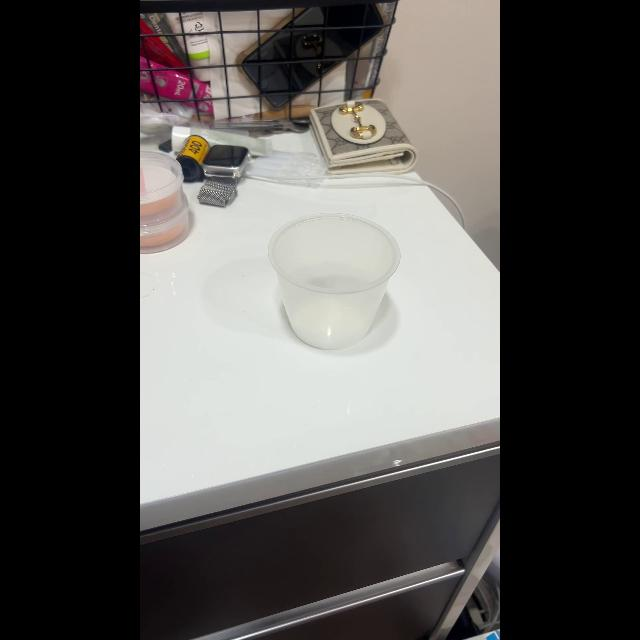clean: (273, 207, 403, 351)
